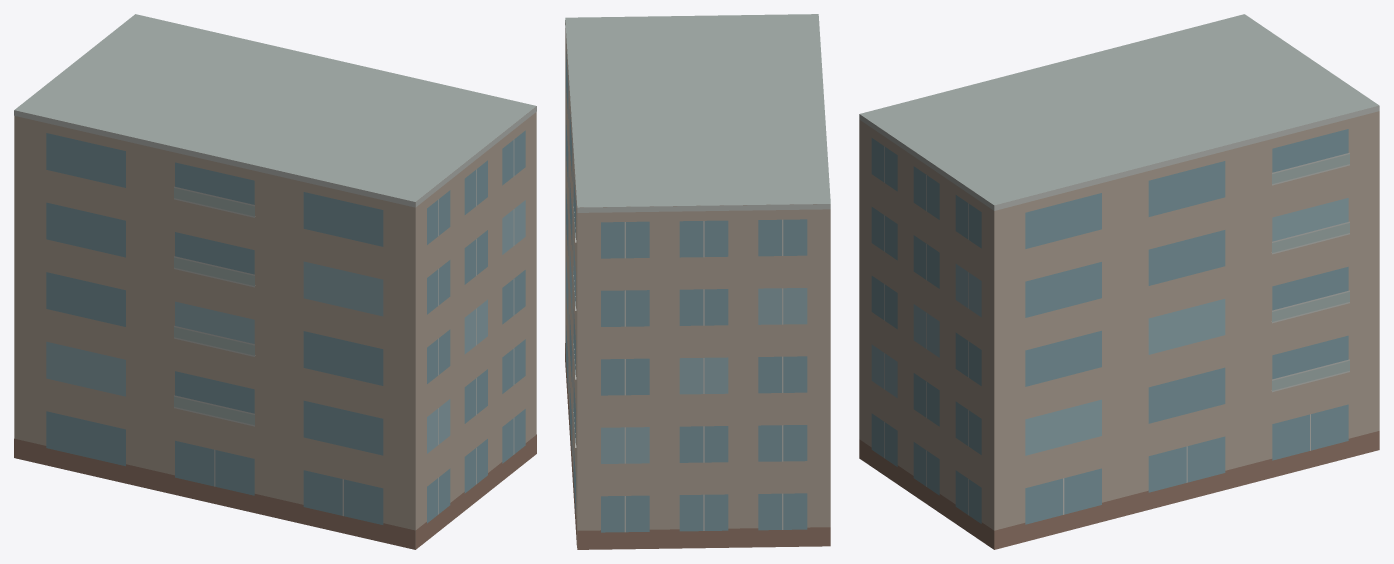
File: survey-upis-32765253.glb
3 views of the same model, side by side, from view 1: azimuth 30°, elevation 25°; view 2: azimuth 150°, elevation 25°; view 3: azimuth 270°, elevation 25° (orthographic).
Parts seen in each view (by area): view 1: survey-upis-32765253.tmp; view 2: survey-upis-32765253.tmp; view 3: survey-upis-32765253.tmp.
Part boxes in pixels (x1,y1,x2,y2): survey-upis-32765253.tmp: (14, 14, 536, 549); survey-upis-32765253.tmp: (565, 14, 830, 549); survey-upis-32765253.tmp: (859, 14, 1379, 549).
Bounding box in the file's own units: 18.13 × 15.2 × 20.82.
